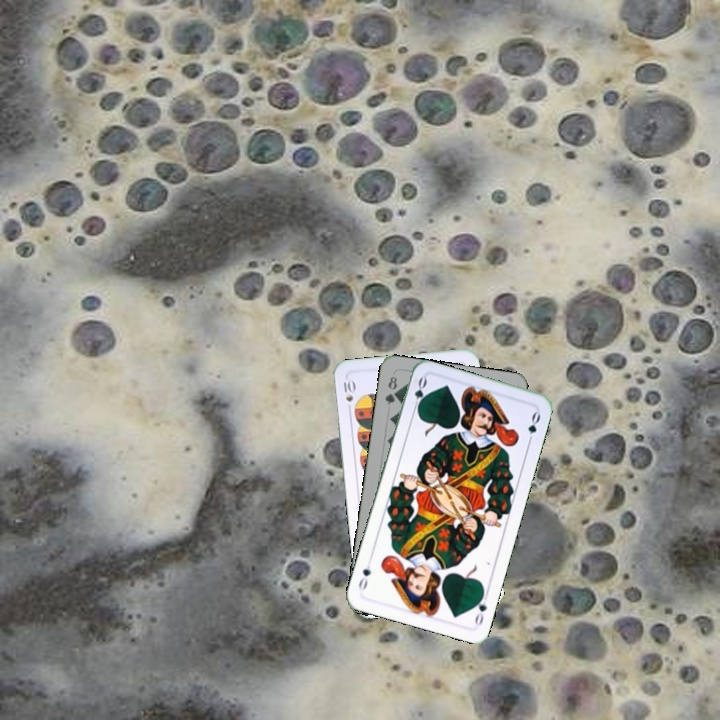G8: (381, 372, 400, 407)
GO: (409, 373, 430, 415), (470, 588, 491, 628)
S10: (339, 374, 357, 415)
